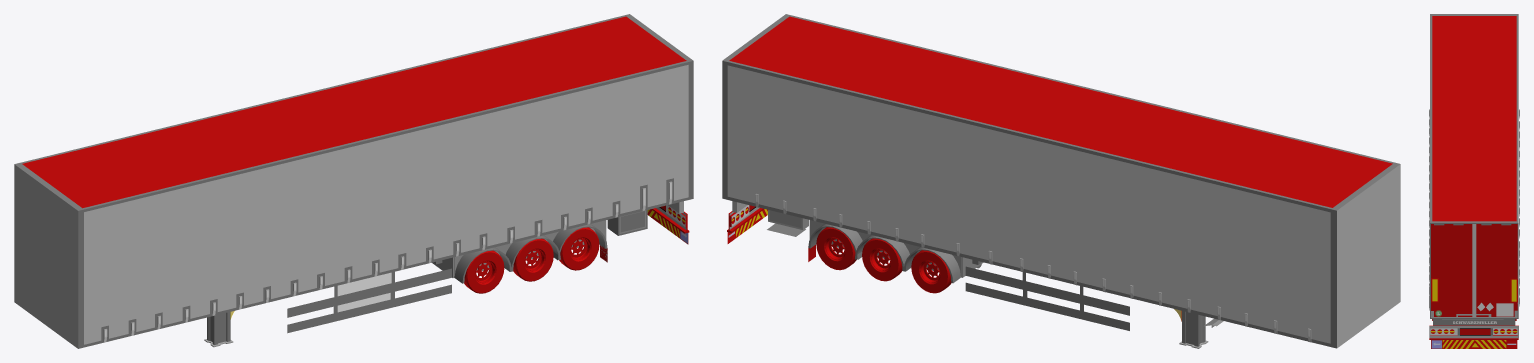
File: Remorque (1).glb
The picture shows the model from 3 angles, left to right: view 1: azimuth 30°, elevation 25°; view 2: azimuth 150°, elevation 25°; view 3: azimuth 270°, elevation 25°; orthographic projection. The views are drawn at different scales.
Visible parts, largest first — view 1: remorque2; view 2: remorque2; view 3: remorque2.
Boxes of the visible parts, bbox=[...] form: remorque2: bbox=[14, 14, 693, 348]; remorque2: bbox=[722, 14, 1400, 348]; remorque2: bbox=[1429, 14, 1519, 348].
Bounding box in the file's own units: 12.97 × 3.74 × 2.39.
22 materials, 2 textured.
